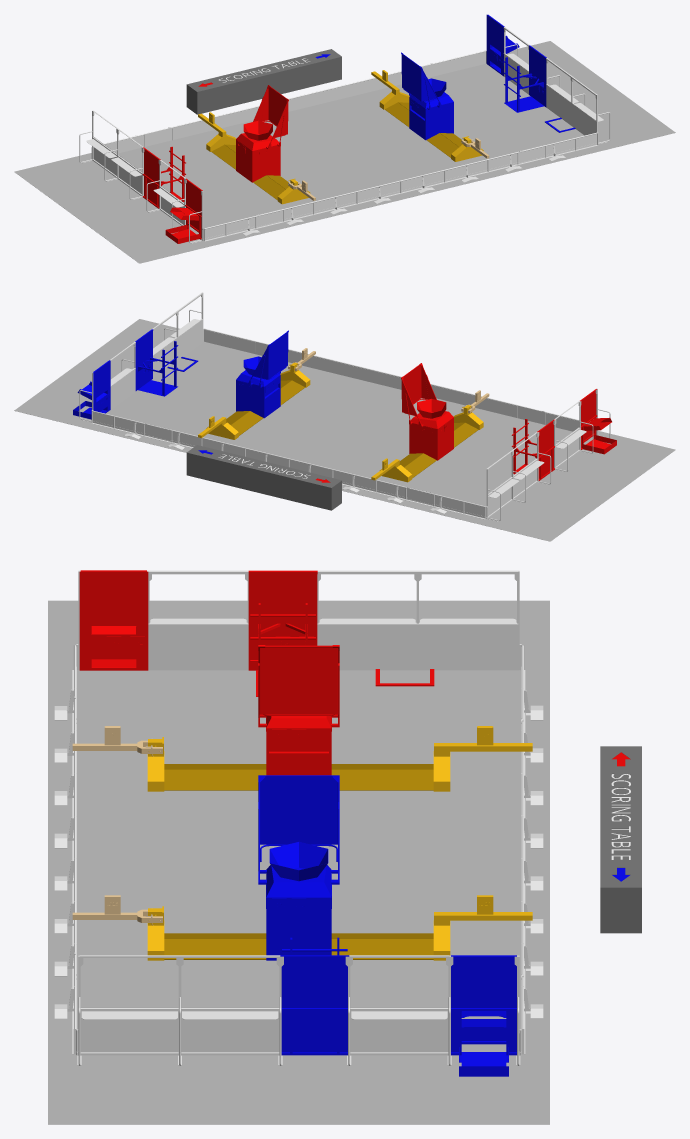
File: map.glb
The picture shows the model from 3 angles, top to bottom: view 1: azimuth 30°, elevation 25°; view 2: azimuth 150°, elevation 25°; view 3: azimuth 270°, elevation 25°; orthographic projection. The views are drawn at different scales.
Visible parts, largest first — view 1: mesh0; view 2: mesh0; view 3: mesh0.
Boxes of the visible parts, x1,y1,x2,y2 form: mesh0: (14,14,675,263); mesh0: (14,292,675,541); mesh0: (48,570,641,1124).
Bounding box in the file's own units: 22.56 × 3.06 × 10.82.
